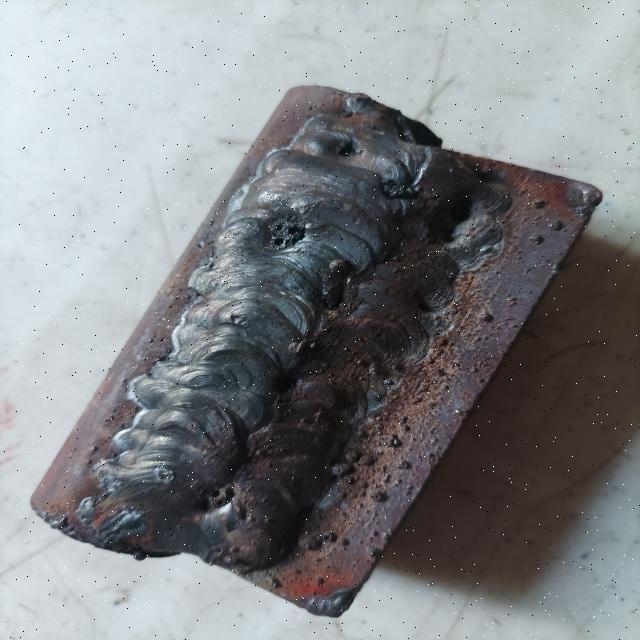Porosity: (189, 479, 244, 516), (258, 214, 309, 252), (377, 175, 429, 201), (333, 138, 368, 160), (268, 373, 298, 396), (151, 466, 175, 482)
